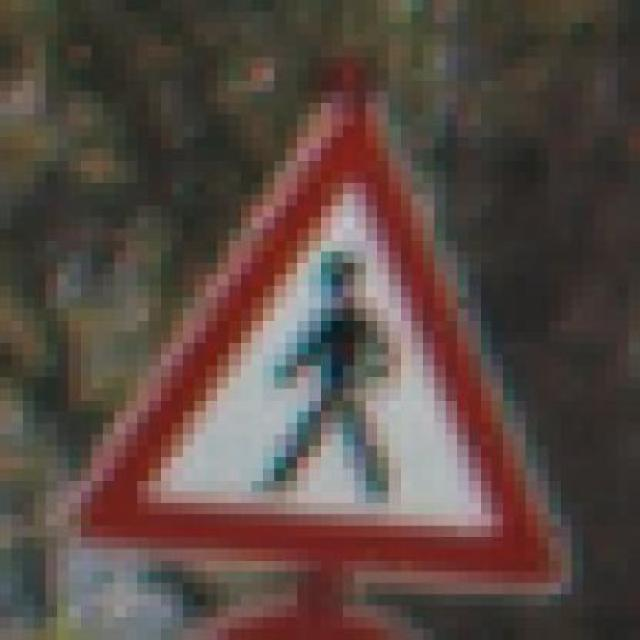Pedestrian Crossing: (66, 61, 580, 598)
